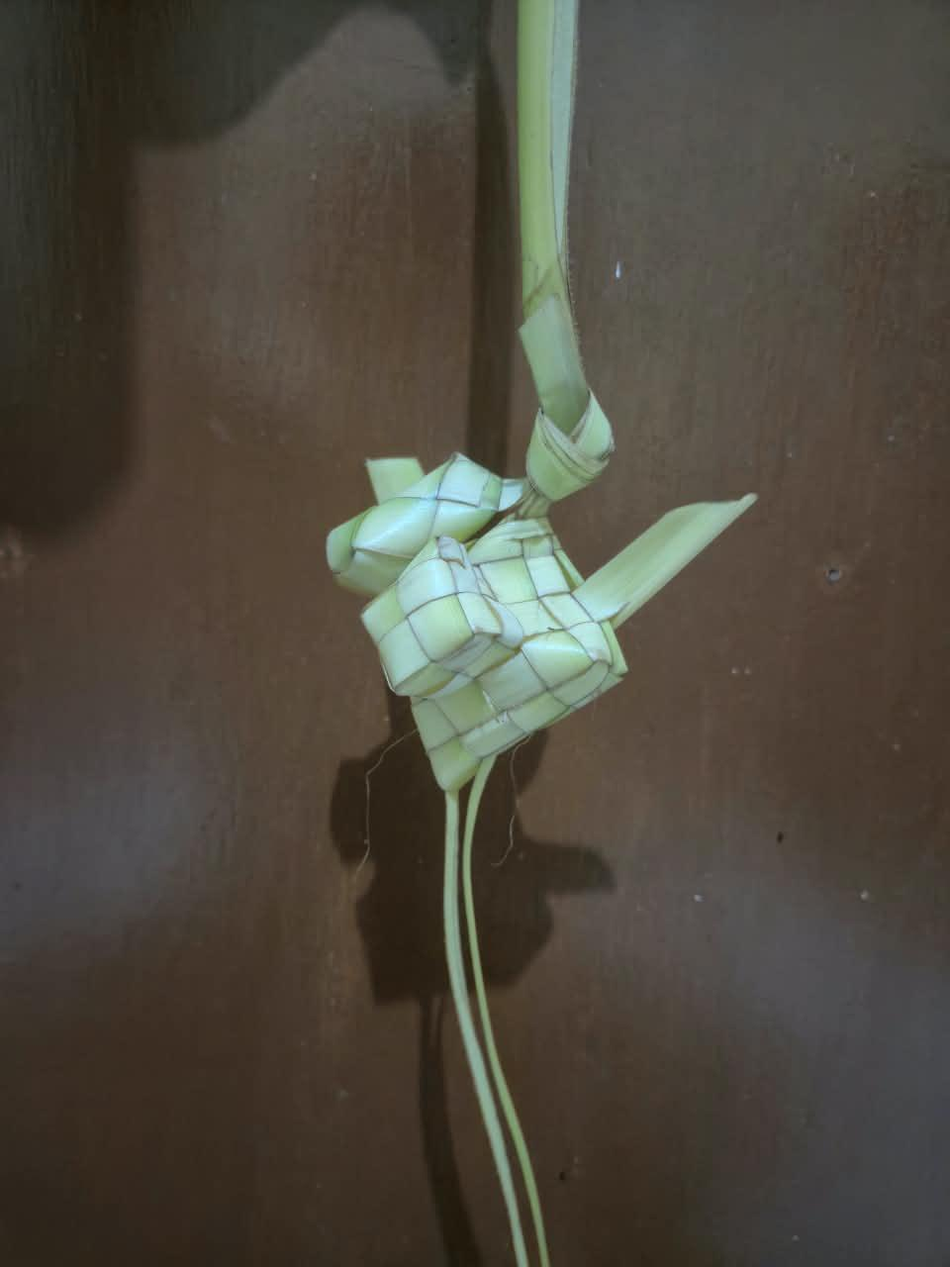Tipat Gong: (362, 519, 626, 792)
